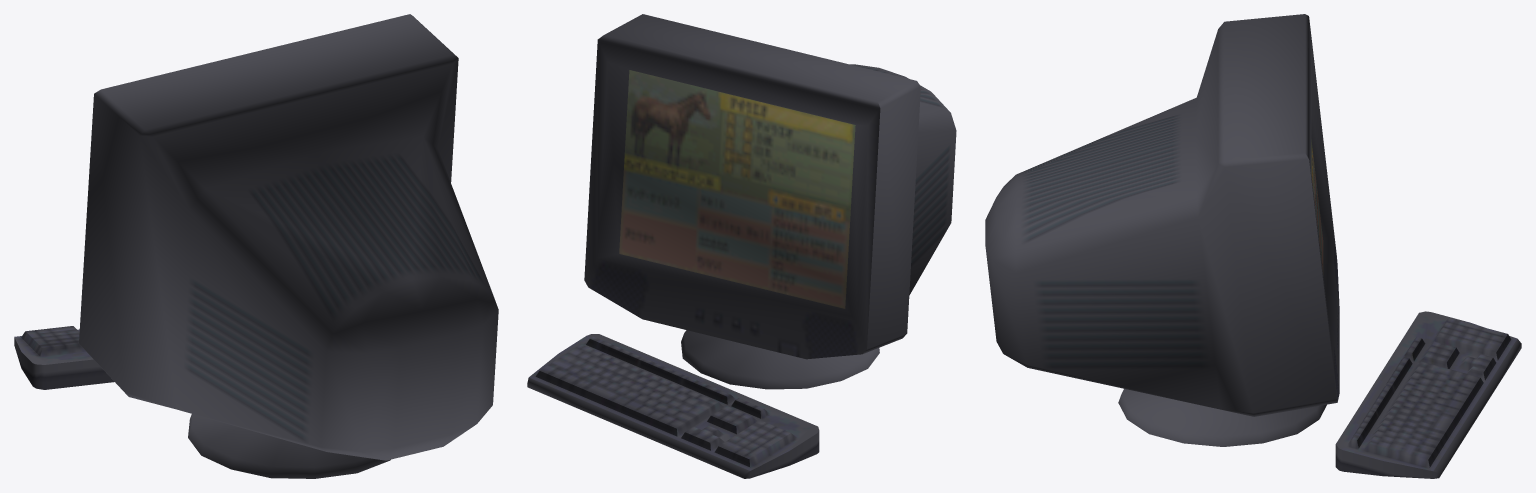
File: ic_edit.icn.obj
3 views of the same model, side by side, from view 1: azimuth 30°, elevation 25°; view 2: azimuth 150°, elevation 25°; view 3: azimuth 270°, elevation 25° (orthographic). The views are drawn at different scales.
Size of the model in its own units: 3.23 by 3.25 by 4.95.
Materials: 1 (1 with a texture image).
